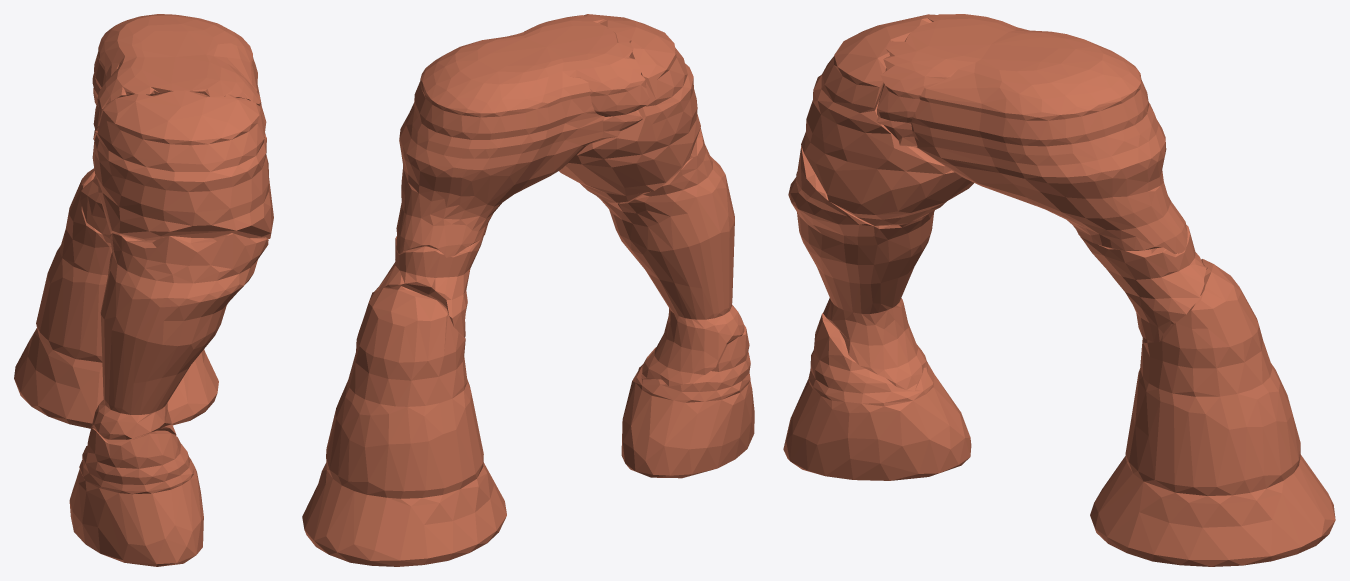
Rendered from ArcoQ.fbx.
The picture shows the model from 3 angles, left to right: view 1: azimuth 30°, elevation 25°; view 2: azimuth 150°, elevation 25°; view 3: azimuth 270°, elevation 25°; orthographic projection. The views are drawn at different scales.
Parts seen in each view (by area): view 1: Cylinder.004, Cylinder.005, Cylinder.000, Cylinder.002, Cylinder.003, Cylinder.001; view 2: Cylinder.000, Cylinder.003, Cylinder.005, Cylinder.002, Cylinder.004, Cylinder.001; view 3: Cylinder.003, Cylinder.000, Cylinder.002, Cylinder.004, Cylinder.005, Cylinder.001.
Boxes of the visible parts, bbox=[...] form: Cylinder.004: bbox=[92, 90, 273, 240]; Cylinder.005: bbox=[89, 233, 268, 439]; Cylinder.000: bbox=[14, 168, 218, 428]; Cylinder.002: bbox=[69, 428, 203, 566]; Cylinder.003: bbox=[92, 14, 266, 140]; Cylinder.001: bbox=[80, 175, 110, 243]; Cylinder.000: bbox=[302, 286, 506, 566]; Cylinder.003: bbox=[396, 15, 649, 257]; Cylinder.005: bbox=[597, 128, 744, 386]; Cylinder.002: bbox=[621, 325, 754, 478]; Cylinder.004: bbox=[559, 14, 700, 202]; Cylinder.001: bbox=[374, 236, 483, 337]; Cylinder.003: bbox=[876, 14, 1187, 253]; Cylinder.000: bbox=[1090, 259, 1335, 566]; Cylinder.002: bbox=[783, 313, 971, 480]; Cylinder.004: bbox=[801, 14, 973, 225]; Cylinder.005: bbox=[788, 146, 934, 390]; Cylinder.001: bbox=[1080, 224, 1206, 342].
Bounding box in the file's own units: 397 × 591 × 636.
